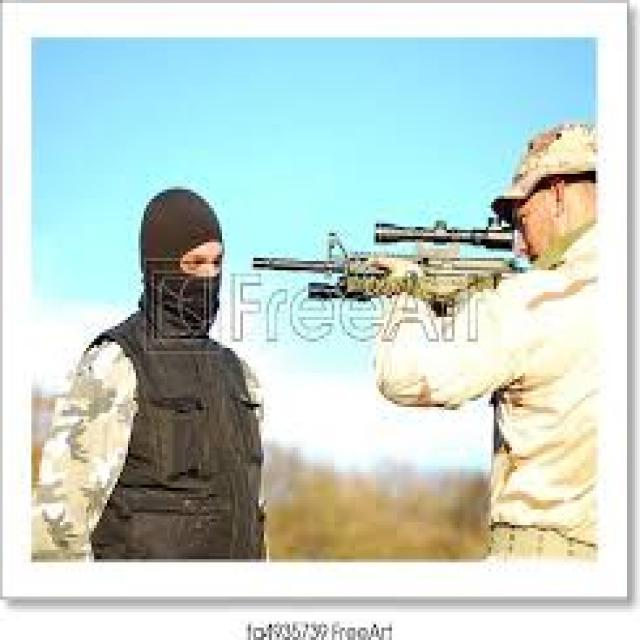soldier: (256, 122, 601, 567)
